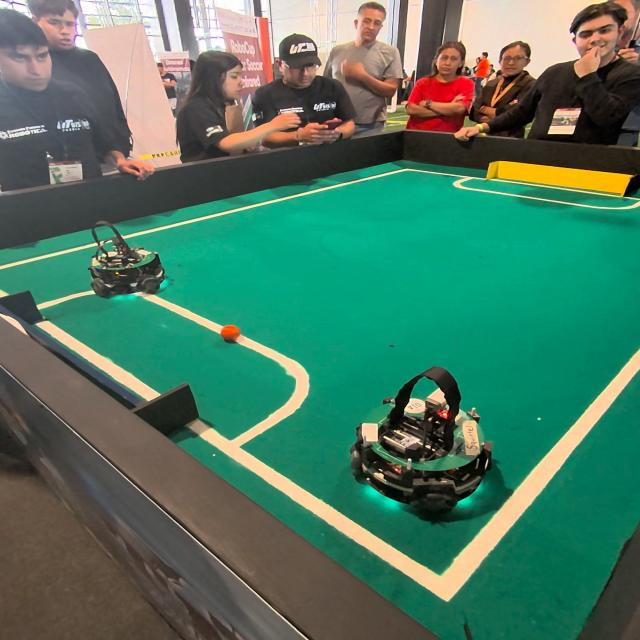Robot: (341, 358, 502, 532), (86, 224, 172, 302)
pelota: (220, 325, 240, 342)
